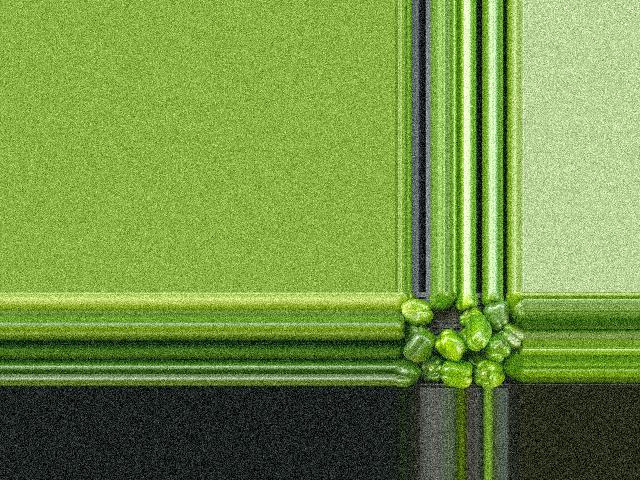bell_pepper: (503, 347, 524, 374)
